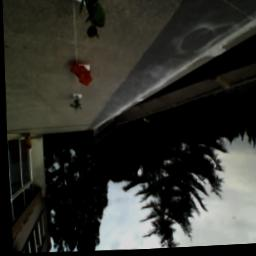herb: (78, 1, 109, 42), (70, 98, 83, 113)
wild: (69, 61, 94, 89)
